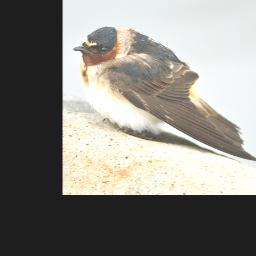Swallow: (72, 26, 256, 162)
